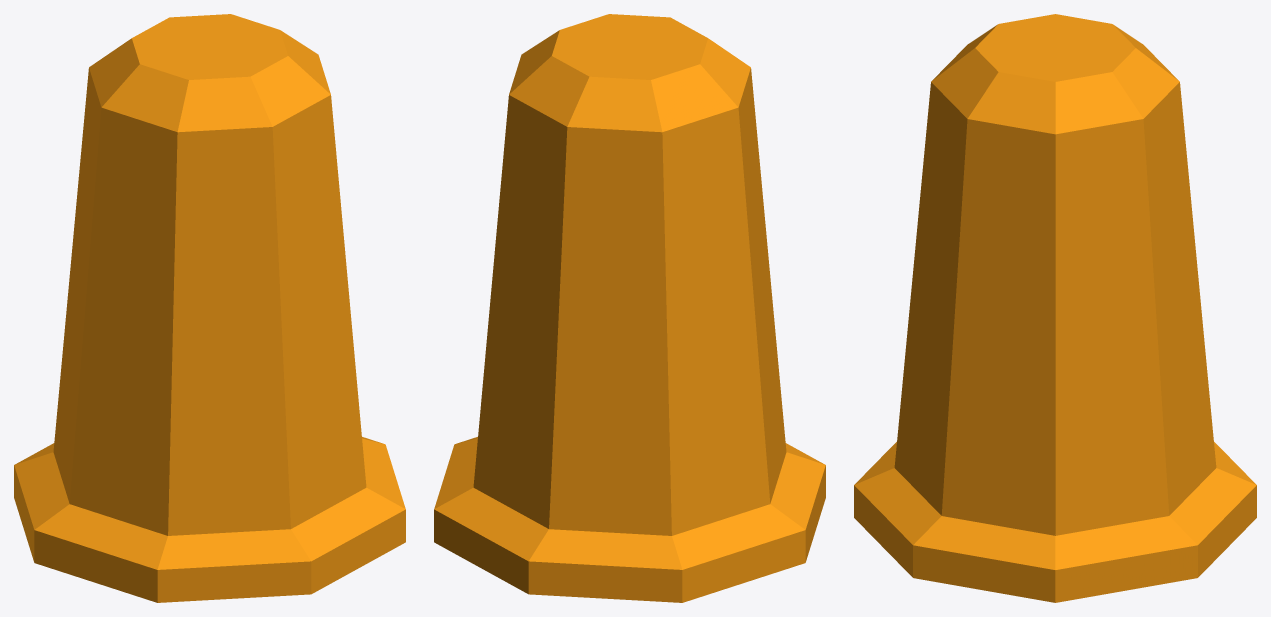
Rendered from traffic_14.fbx.
3 views of the same model, side by side, from view 1: azimuth 30°, elevation 25°; view 2: azimuth 150°, elevation 25°; view 3: azimuth 270°, elevation 25° (orthographic).
Visible parts, largest first — view 1: Cylinder.032; view 2: Cylinder.032; view 3: Cylinder.032.
Part boxes in pixels (left/top/right/bottom): Cylinder.032: left=14, top=14, right=405, bottom=602; Cylinder.032: left=434, top=14, right=825, bottom=602; Cylinder.032: left=854, top=14, right=1256, bottom=602.
Size of the model in its own units: 63.23 by 81.39 by 63.23.
